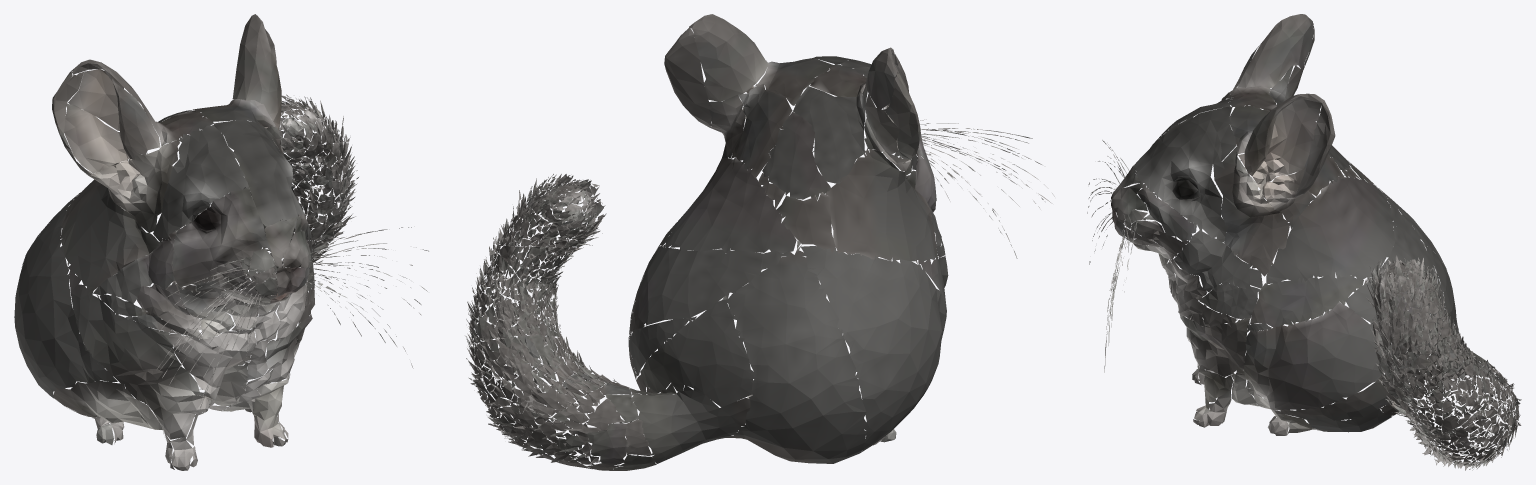
The model's file is chin_semireal_lite.glb.
3 renders of one model, left to right at view 1: azimuth 30°, elevation 25°; view 2: azimuth 150°, elevation 25°; view 3: azimuth 270°, elevation 25°, orthographic. The views are drawn at different scales.
Visible parts, largest first — view 1: chin_semireal_dec.obj; view 2: chin_semireal_dec.obj; view 3: chin_semireal_dec.obj.
Boxes of the visible parts, box(x1,y1,x2,y2) form: chin_semireal_dec.obj: box(14, 14, 428, 470); chin_semireal_dec.obj: box(465, 14, 1054, 470); chin_semireal_dec.obj: box(1087, 14, 1521, 470).
Size of the model in its own units: 1.74 by 1.68 by 1.9.
Materials: 1 (1 with a texture image).
